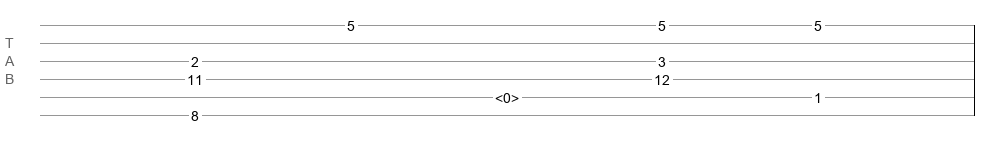1: (814, 90, 822, 100)
11: (187, 72, 203, 82)
12: (654, 72, 670, 82)
2: (191, 54, 199, 64)
3: (658, 54, 666, 64)
5: (347, 18, 355, 28), (658, 18, 666, 28), (814, 18, 822, 28)
8: (191, 108, 199, 118)
harmonic: (495, 90, 519, 100)
